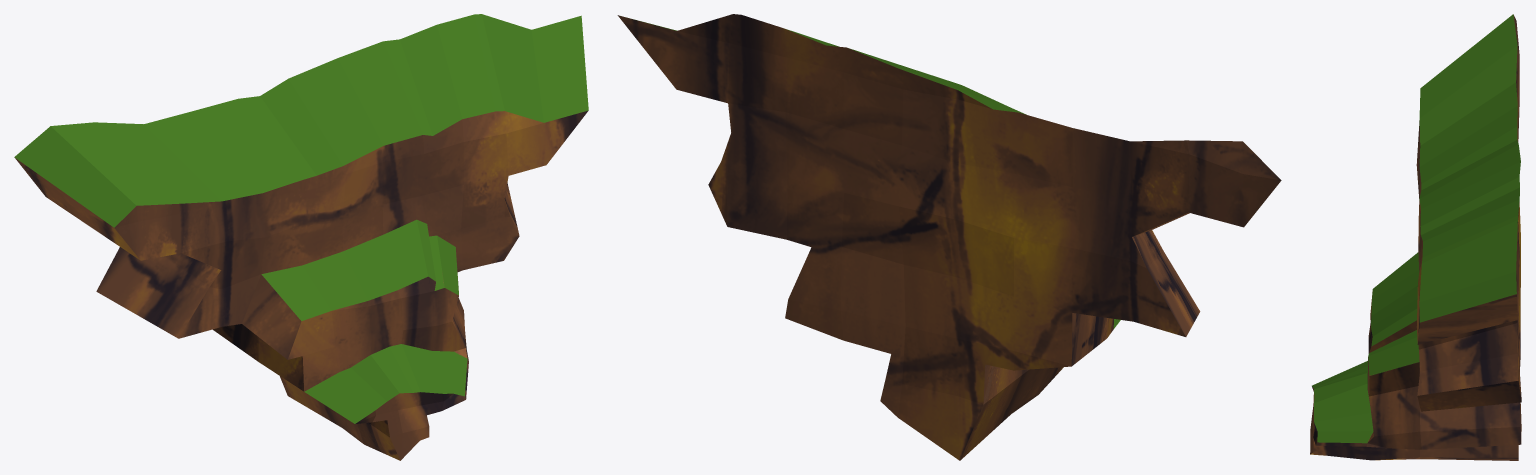
The model's file is sali105.obj.
The picture shows the model from 3 angles, left to right: view 1: azimuth 30°, elevation 25°; view 2: azimuth 150°, elevation 25°; view 3: azimuth 270°, elevation 25°; orthographic projection. The views are drawn at different scales.
Visible parts, largest first — view 1: Plane.058_Plane.064; view 2: Plane.058_Plane.064; view 3: Plane.058_Plane.064.
Part boxes in pixels (x1,y1,x2,y2): Plane.058_Plane.064: (14,14,588,460); Plane.058_Plane.064: (617,14,1281,460); Plane.058_Plane.064: (1310,14,1521,460).
Bounding box in the file's own units: 212 × 120 × 68.68.
Materials: 1 (1 with a texture image).
